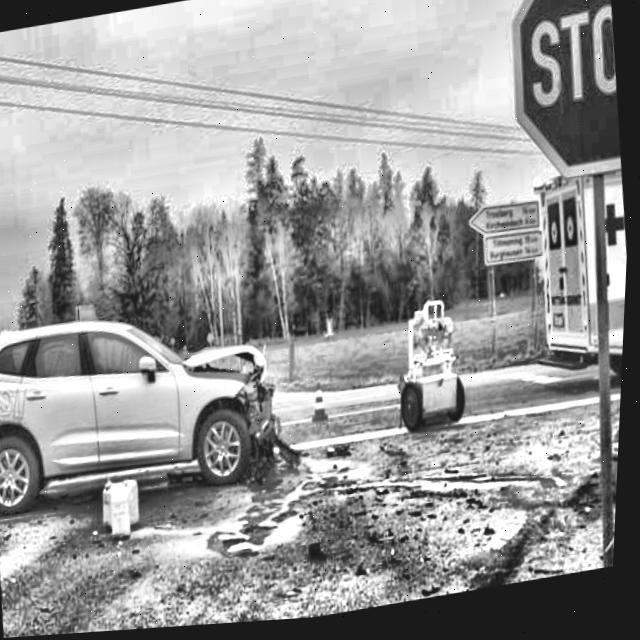light_vehicle: (0, 239, 323, 559), (0, 248, 326, 562), (505, 120, 635, 437)
